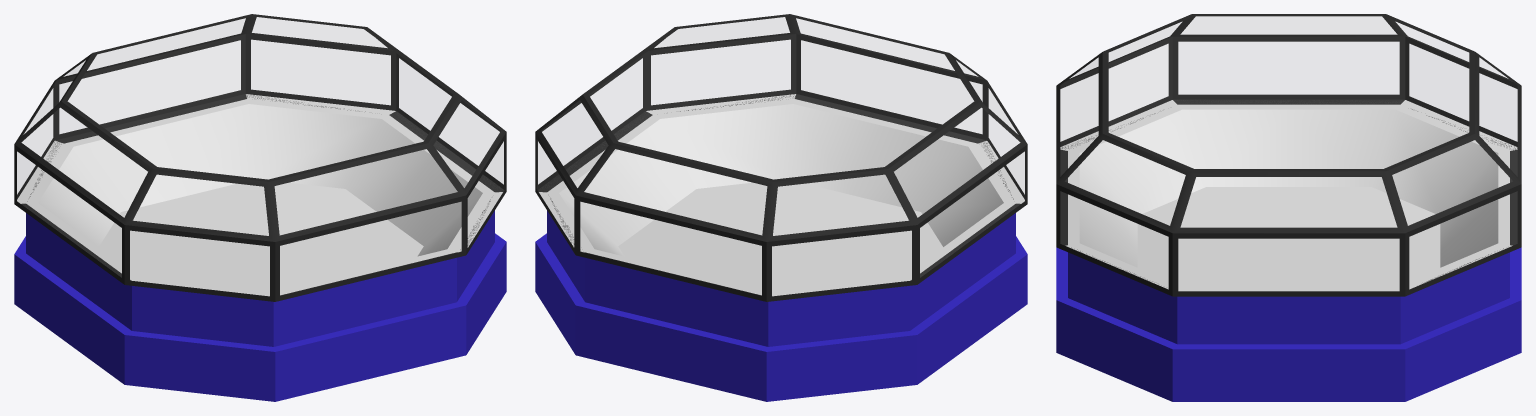
File: lightSmall.fbx
The picture shows the model from 3 angles, left to right: view 1: azimuth 30°, elevation 25°; view 2: azimuth 150°, elevation 25°; view 3: azimuth 270°, elevation 25°; orthographic projection. The views are drawn at different scales.
Parts seen in each view (by area): view 1: Krychle; view 2: Krychle; view 3: Krychle.
Part boxes in pixels (x1,y1,x2,y2): Krychle: [14, 14, 506, 401]; Krychle: [535, 14, 1027, 401]; Krychle: [1056, 14, 1521, 401].
Size of the model in its own units: 18 by 9 by 18.
